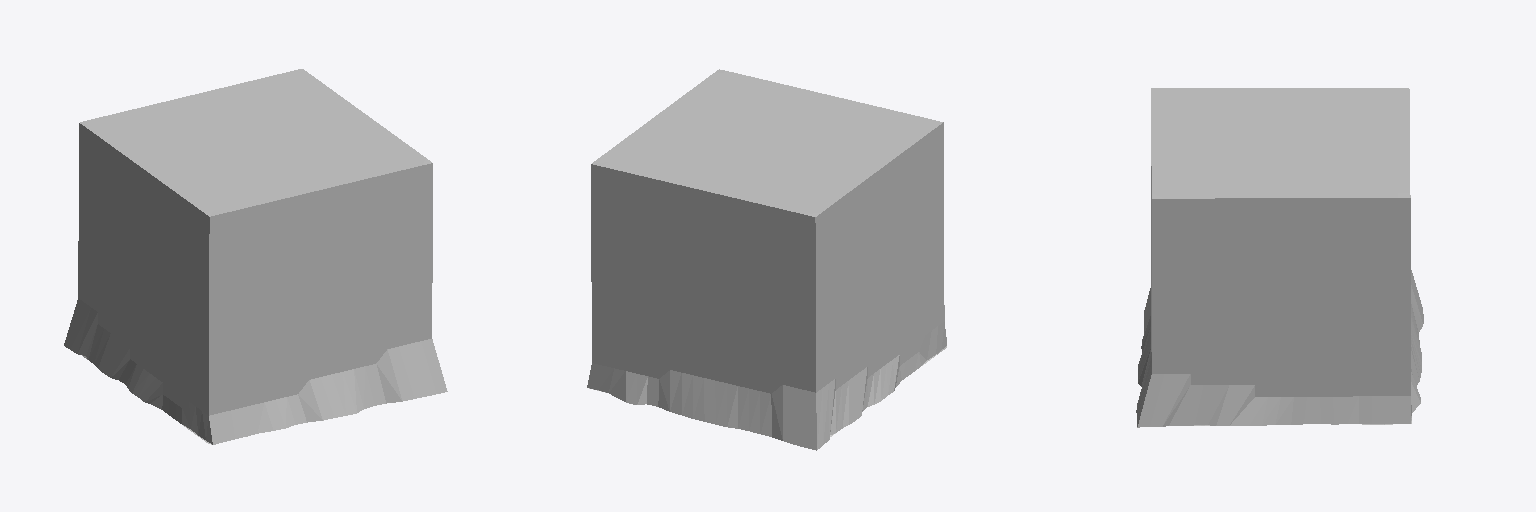
File: mod0189.obj
The picture shows the model from 3 angles: view 1: azimuth 30°, elevation 25°; view 2: azimuth 150°, elevation 25°; view 3: azimuth 270°, elevation 25°; orthographic projection.
Parts seen in each view (by area): view 1: Box001; view 2: Box001; view 3: Box001.
Boxes of the visible parts, <box> form: Box001: <box>64,69,447,444</box>; Box001: <box>587,69,946,450</box>; Box001: <box>1136,88,1423,427</box>.
Bounding box in the file's own units: 0.5799 × 0.5218 × 0.5979.